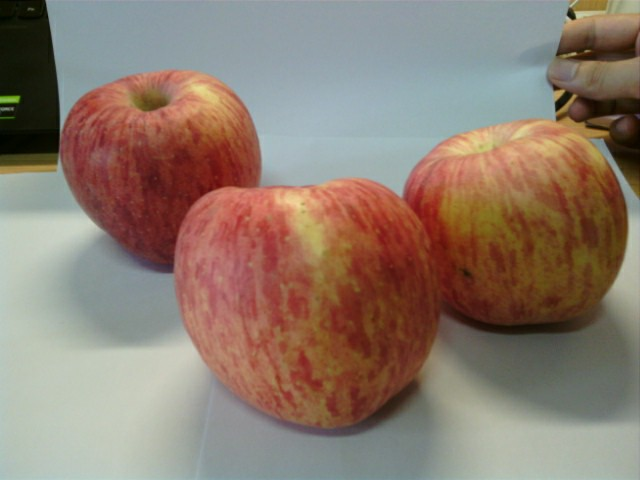normal_apple: (177, 182, 442, 435), (404, 120, 629, 331), (59, 68, 263, 275)
